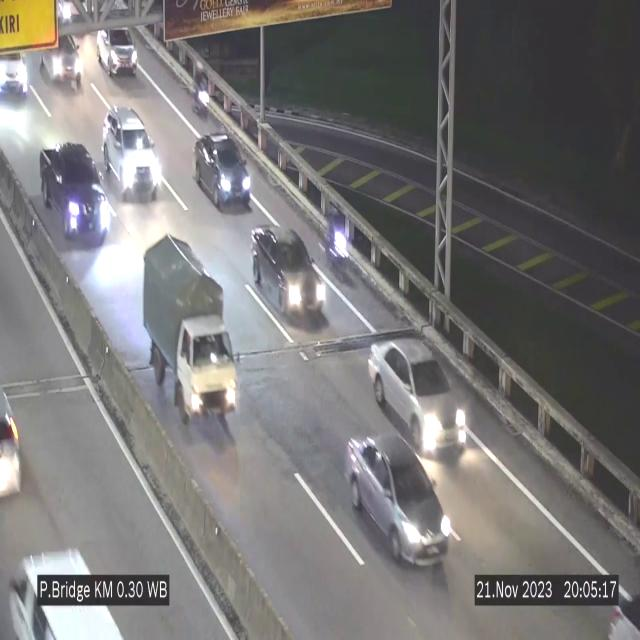Car: (0, 533, 132, 640), (368, 334, 470, 470), (346, 434, 452, 564), (250, 225, 329, 337), (38, 142, 111, 252), (103, 107, 161, 200), (194, 132, 252, 210), (36, 16, 92, 90), (0, 369, 27, 516), (0, 39, 32, 113), (97, 26, 137, 76)
Motorcycle: (331, 198, 351, 284), (192, 61, 214, 123)
Truck: (144, 242, 238, 433)
